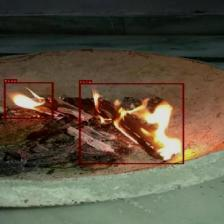fire: (78, 83, 184, 164), (4, 82, 53, 119)
